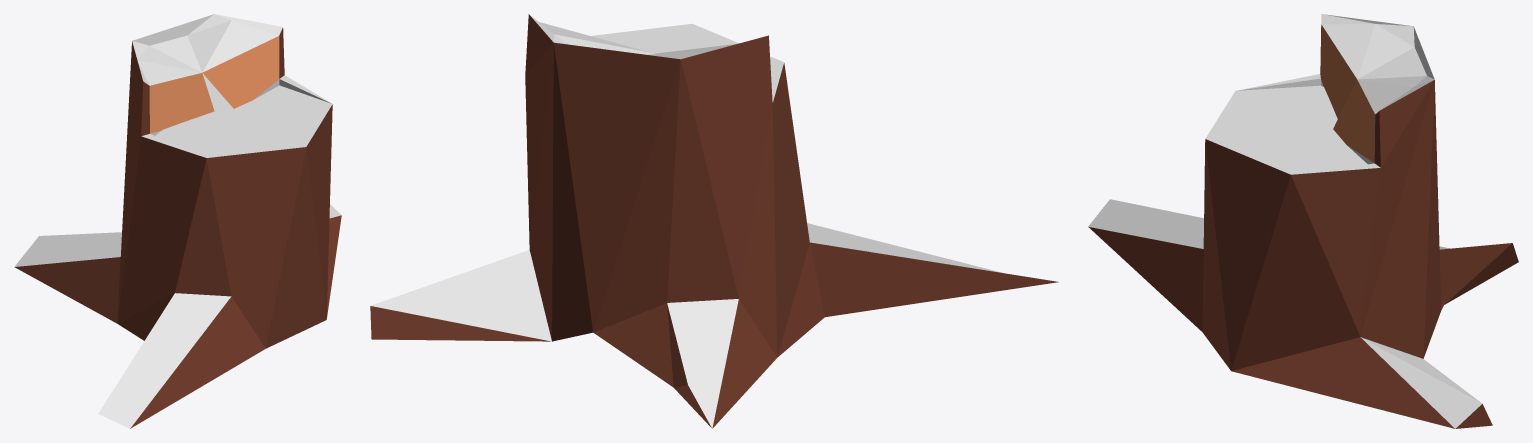
Rendered from pine_trunk_type_4_extra_LOD2.fbx.
3 renders of one model, left to right at view 1: azimuth 30°, elevation 25°; view 2: azimuth 150°, elevation 25°; view 3: azimuth 270°, elevation 25°, orthographic. The views are drawn at different scales.
Visible parts, largest first — view 1: Cylinder.003; view 2: Cylinder.003; view 3: Cylinder.003.
Part boxes in pixels (<box>): Cylinder.003: <box>14,14,341,428</box>; Cylinder.003: <box>370,14,1058,428</box>; Cylinder.003: <box>1088,14,1518,428</box>.
Bounding box in the file's own units: 434 × 262 × 360.
